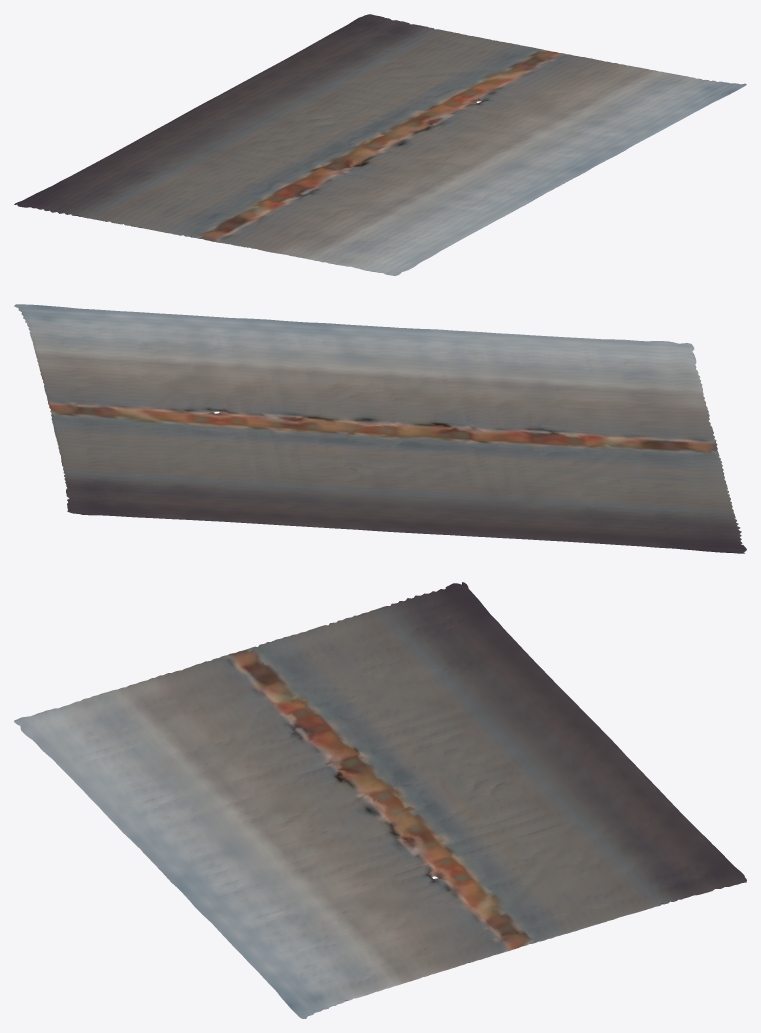
Rendered from rug-001.glb.
3 renders of one model, top to bottom at view 1: azimuth 30°, elevation 25°; view 2: azimuth 150°, elevation 25°; view 3: azimuth 270°, elevation 25°, orthographic. The views are drawn at different scales.
Parts seen in each view (by area): view 1: geometry_0; view 2: geometry_0; view 3: geometry_0.
Boxes of the visible parts, x1,y1,x2,y2 form: geometry_0: [14, 14, 746, 275]; geometry_0: [14, 304, 746, 553]; geometry_0: [14, 582, 746, 1018].
Bounding box in the file's own units: 240 × 1 × 170.
